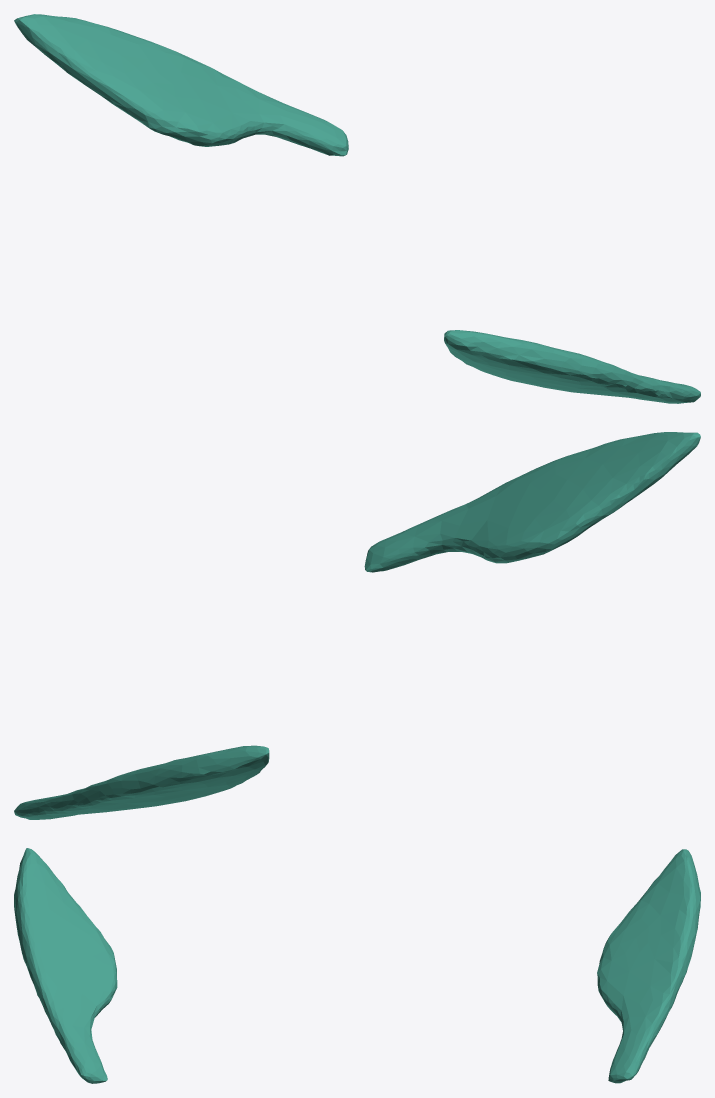
The picture shows the model from 3 angles, top to bottom: view 1: azimuth 30°, elevation 25°; view 2: azimuth 150°, elevation 25°; view 3: azimuth 270°, elevation 25°; orthographic projection. The views are drawn at different scales.
Parts seen in each view (by area): view 1: 577.obj; view 2: 577.obj; view 3: 577.obj.
Part boxes in pixels (x1,y1,x2,y2): 577.obj: (14, 14, 700, 403); 577.obj: (14, 432, 700, 819); 577.obj: (14, 848, 700, 1083).
Bounding box in the file's own units: 2187 × 1222 × 5796.
